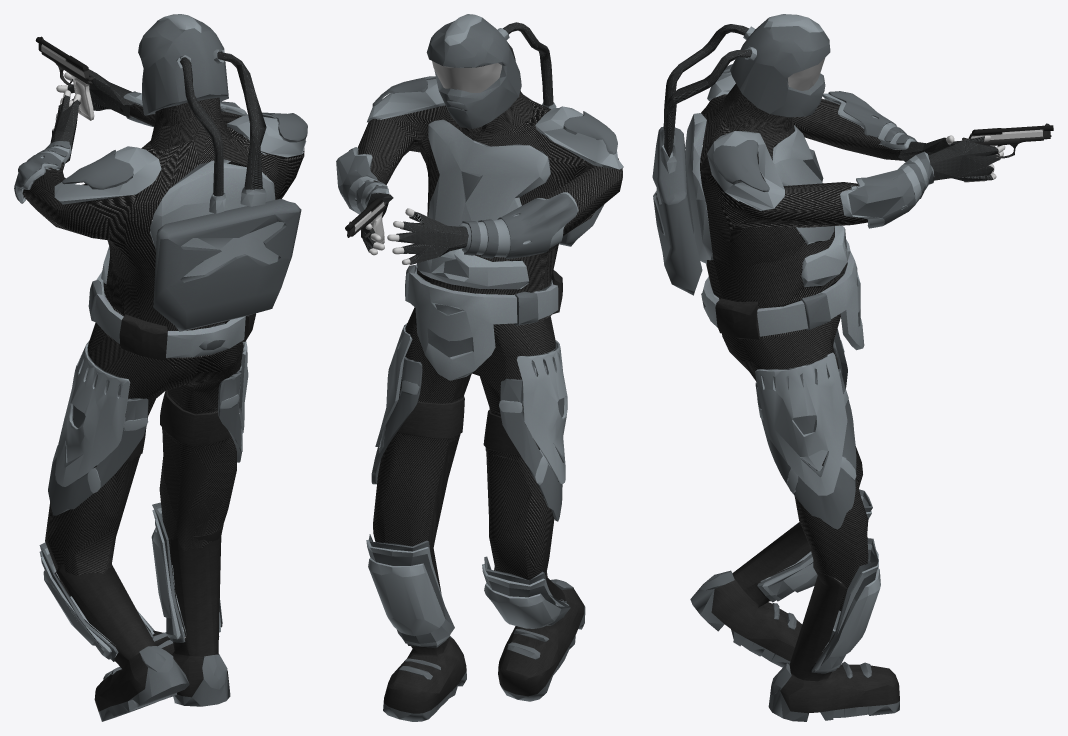
The model's file is AndarPistola.0013.obj.
3 views of the same model, side by side, from view 1: azimuth 30°, elevation 25°; view 2: azimuth 150°, elevation 25°; view 3: azimuth 270°, elevation 25° (orthographic). The views are drawn at different scales.
Parts seen in each view (by area): view 1: personajeskefix:personaje:extrudedSurface2 polySurface112, personajeskefix:personaje:PANTALON polySurface112, personajeskefix:personaje:bota1 polySurface112, personajeskefix:personaje:CAMISETABUENA polySurface112, personajeskefix:personaje:pPipe4 polySurface112, personajeskefix:personaje:cosoarmdaurapierna1 polySurface112, personajeskefix:personaje:pCube4 polySurface112, personajeskefix:personaje:cinturon polySurface112, personajeskefix:personaje:armadbota1 polySurface112, personajeskefix:personaje:polySurface6 polySurface112, pistola:Cylinder001 polySurface112, personajeskefix:personaje:HOMBRO2 polySurface112 (+5 smaller); view 2: personajeskefix:personaje:pPipe4 polySurface112, personajeskefix:personaje:PANTALON polySurface112, personajeskefix:personaje:CAMISETABUENA polySurface112, personajeskefix:personaje:bota1 polySurface112, personajeskefix:personaje:cinturon polySurface112, personajeskefix:personaje:pCube4 polySurface112, personajeskefix:personaje:armadbota1 polySurface112, personajeskefix:personaje:extrudedSurface2 polySurface112, personajeskefix:personaje:cosoarmdaurapierna1 polySurface112, personajeskefix:personaje:polySurface2 polySurface112, personajeskefix:personaje:polySurface6 polySurface112, personajeskefix:personaje:cosoarmadurapierna2 polySurface112 (+8 smaller); view 3: personajeskefix:personaje:CAMISETABUENA polySurface112, personajeskefix:personaje:bota1 polySurface112, personajeskefix:personaje:pPipe4 polySurface112, personajeskefix:personaje:extrudedSurface2 polySurface112, personajeskefix:personaje:pCube4 polySurface112, personajeskefix:personaje:PANTALON polySurface112, personajeskefix:personaje:cinturon polySurface112, personajeskefix:personaje:cosoarmadurapierna2 polySurface112, personajeskefix:personaje:armadbota1 polySurface112, personajeskefix:personaje:hombro1 polySurface112, personajeskefix:personaje:polySurface2 polySurface112, pistola:Cylinder001 polySurface112 (+3 smaller).
Boxes of the visible parts, x1,y1,x2,y2 form: personajeskefix:personaje:extrudedSurface2 polySurface112: (138,14,301,331); personajeskefix:personaje:PANTALON polySurface112: (45,296,243,596); personajeskefix:personaje:bota1 polySurface112: (56,525,230,721); personajeskefix:personaje:CAMISETABUENA polySurface112: (22,97,304,358); personajeskefix:personaje:pPipe4 polySurface112: (45,69,306,282); personajeskefix:personaje:cosoarmdaurapierna1 polySurface112: (52,340,148,493); personajeskefix:personaje:pCube4 polySurface112: (39,323,248,661); personajeskefix:personaje:cinturon polySurface112: (88,271,255,360); personajeskefix:personaje:armadbota1 polySurface112: (39,507,220,659); personajeskefix:personaje:polySurface6 polySurface112: (124,390,231,463); pistola:Cylinder001 polySurface112: (35,36,94,120); personajeskefix:personaje:HOMBRO2 polySurface112: (62,150,133,189); personajeskefix:personaje:pPipe4 polySurface112: (336,79,623,289); personajeskefix:personaje:PANTALON polySurface112: (373,286,555,580); personajeskefix:personaje:CAMISETABUENA polySurface112: (355,65,622,322); personajeskefix:personaje:bota1 polySurface112: (383,547,585,721); personajeskefix:personaje:cinturon polySurface112: (405,260,562,380); personajeskefix:personaje:pCube4 polySurface112: (367,323,570,647); personajeskefix:personaje:armadbota1 polySurface112: (366,539,568,646); personajeskefix:personaje:extrudedSurface2 polySurface112: (426,14,604,246); personajeskefix:personaje:cosoarmdaurapierna1 polySurface112: (499,340,567,485); personajeskefix:personaje:polySurface2 polySurface112: (462,193,577,258); personajeskefix:personaje:polySurface6 polySurface112: (397,396,520,455); personajeskefix:personaje:cosoarmadurapierna2 polySurface112: (371,357,422,484); personajeskefix:personaje:CAMISETABUENA polySurface112: (700,84,914,338); personajeskefix:personaje:bota1 polySurface112: (690,522,899,721); personajeskefix:personaje:pPipe4 polySurface112: (685,71,1000,287); personajeskefix:personaje:extrudedSurface2 polySurface112: (652,14,830,295); personajeskefix:personaje:pCube4 polySurface112: (755,328,878,673); personajeskefix:personaje:PANTALON polySurface112: (719,268,868,610); personajeskefix:personaje:cinturon polySurface112: (701,242,864,350); personajeskefix:personaje:cosoarmadurapierna2 polySurface112: (755,368,856,529); personajeskefix:personaje:armadbota1 polySurface112: (762,496,880,671); personajeskefix:personaje:hombro1 polySurface112: (713,140,769,191); personajeskefix:personaje:polySurface2 polySurface112: (828,91,917,144); pistola:Cylinder001 polySurface112: (962,123,1053,182).
Bounding box in the file's own units: 3.66 × 9.49 × 5.04.
